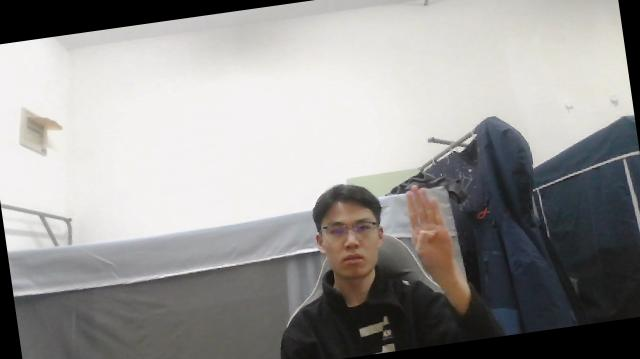four: (399, 177, 457, 271)
